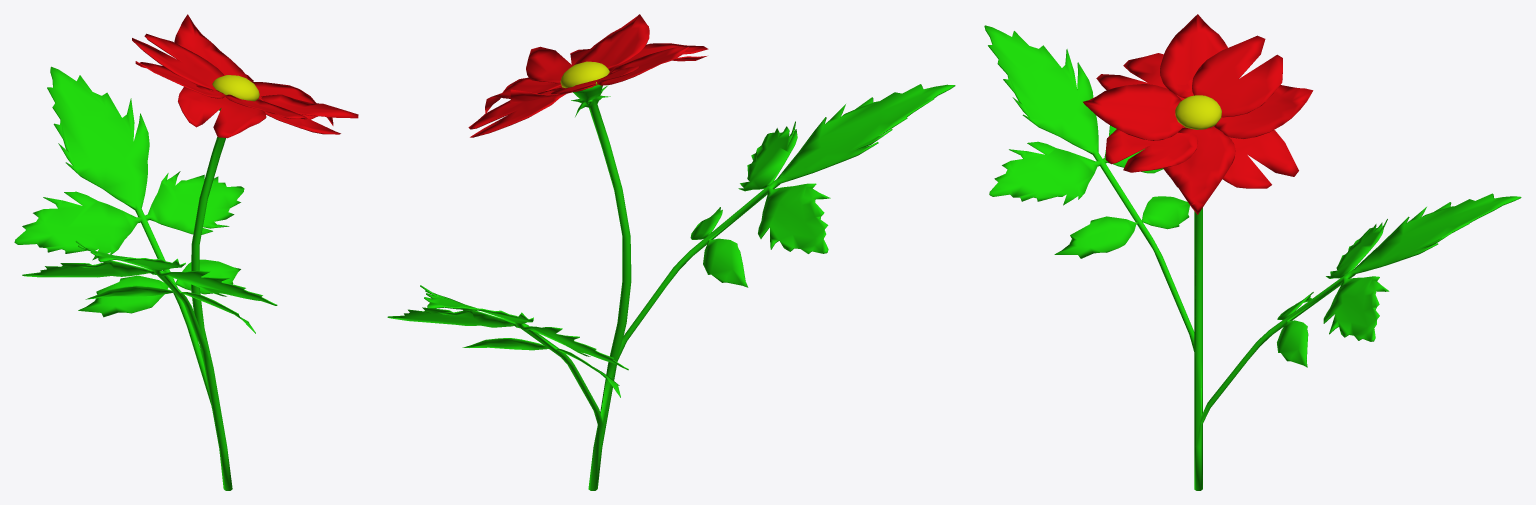
The model's file is Dahlie_LP_1.fbx.
3 views of the same model, side by side, from view 1: azimuth 30°, elevation 25°; view 2: azimuth 150°, elevation 25°; view 3: azimuth 270°, elevation 25° (orthographic). The views are drawn at different scales.
Visible parts, largest first — view 1: Dahlie_LP.001; view 2: Dahlie_LP.001; view 3: Dahlie_LP.001.
Boxes of the visible parts, box(x1,y1,x2,y2) form: Dahlie_LP.001: box(14, 14, 358, 490); Dahlie_LP.001: box(387, 14, 955, 490); Dahlie_LP.001: box(984, 14, 1521, 490).
Size of the model in its own units: 170 by 211 by 238.
